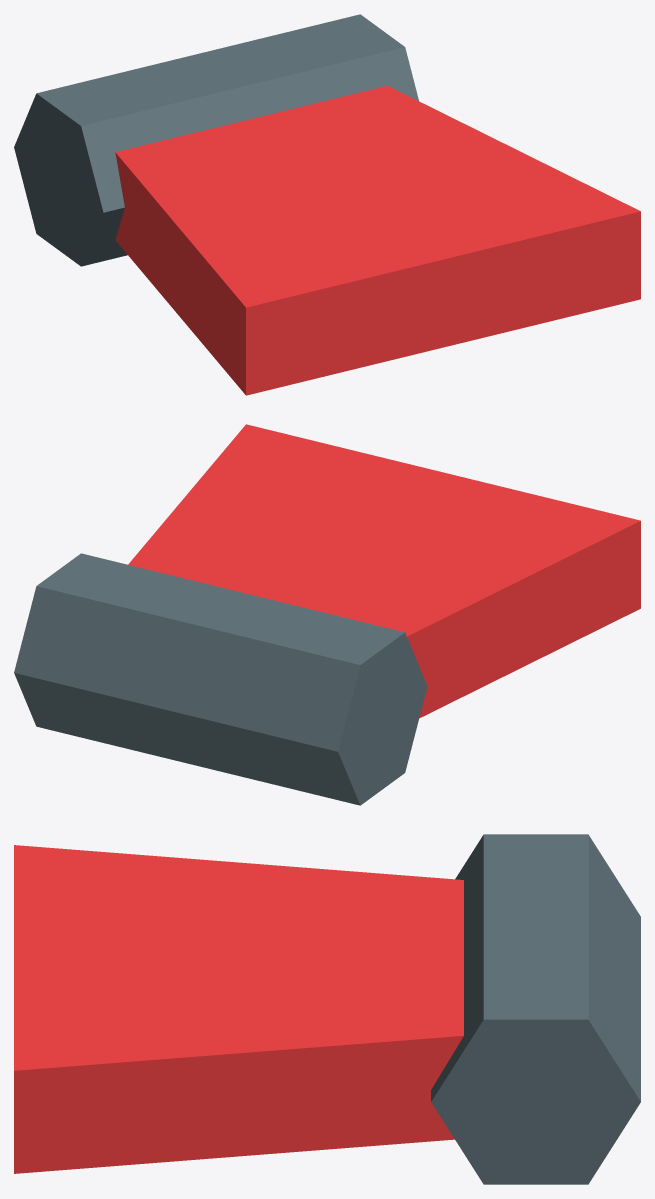
Rendered from Terminal_014_switch_004.fbx.
3 views of the same model, one above another, from view 1: azimuth 30°, elevation 25°; view 2: azimuth 150°, elevation 25°; view 3: azimuth 270°, elevation 25° (orthographic). The views are drawn at different scales.
Parts seen in each view (by area): view 1: Terminal_014_switch_004; view 2: Terminal_014_switch_004; view 3: Terminal_014_switch_004.
Boxes of the visible parts, x1,y1,x2,y2 form: Terminal_014_switch_004: (14, 14, 640, 395); Terminal_014_switch_004: (14, 424, 640, 805); Terminal_014_switch_004: (14, 834, 640, 1184).
Bounding box in the file's own units: 5.62 × 6.6 × 1.91.
